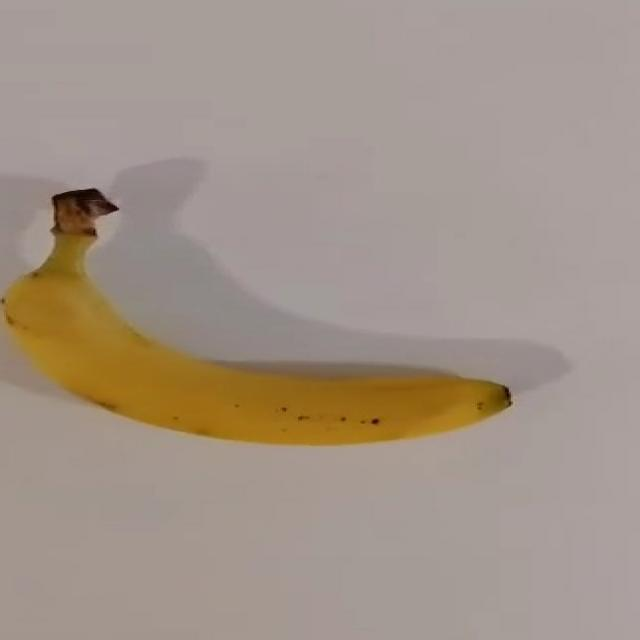Banana: (6, 206, 512, 450)
